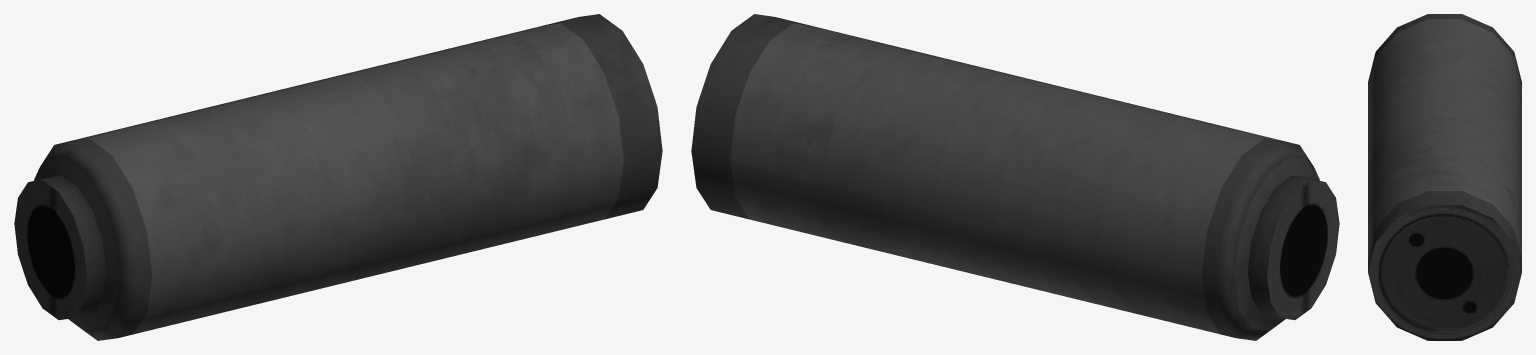
Rendered from t6_attach_shotgun_silencer1_view_LOD0.obj.
3 views of the same model, side by side, from view 1: azimuth 30°, elevation 25°; view 2: azimuth 150°, elevation 25°; view 3: azimuth 270°, elevation 25° (orthographic). The views are drawn at different scales.
Parts seen in each view (by area): view 1: mtl_t6_attach_shotgun_silencer1; view 2: mtl_t6_attach_shotgun_silencer1; view 3: mtl_t6_attach_shotgun_silencer1.
Part boxes in pixels (box(x1,y1,x2,y2)): mtl_t6_attach_shotgun_silencer1: box(14, 14, 662, 340); mtl_t6_attach_shotgun_silencer1: box(691, 14, 1339, 340); mtl_t6_attach_shotgun_silencer1: box(1368, 14, 1521, 340).
Size of the model in its own units: 17.99 by 5.59 by 5.73.
